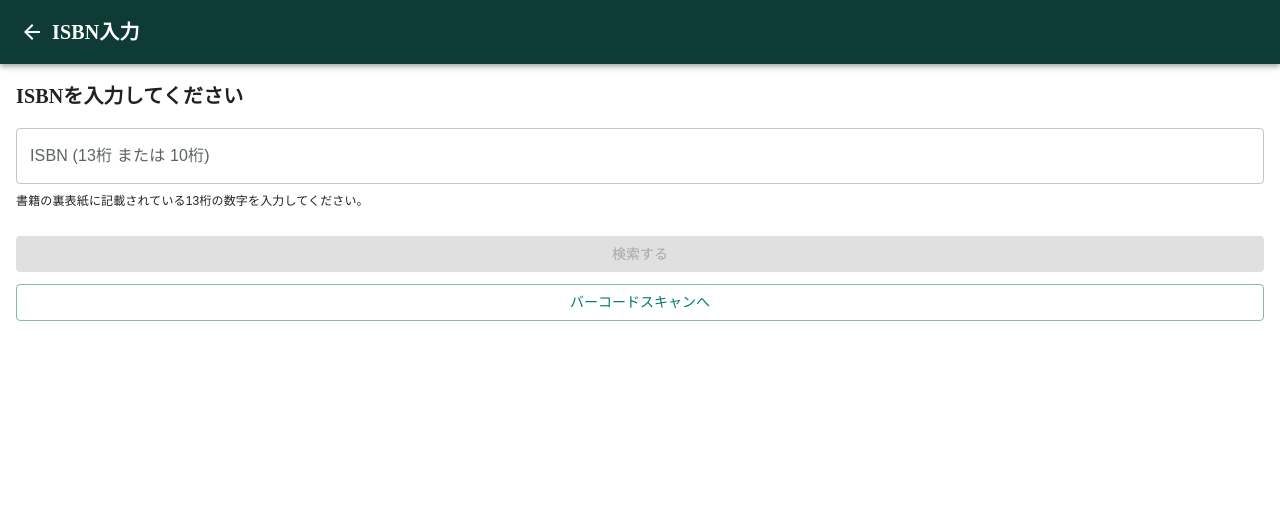
Test case: IsbnInputPage › 有効なISBN入力後に検索ボタンで/result/:isbnへ遷移する
Type "9784873117584" into the field.
click(640, 156); type("9784873117584")  # box left=16, top=128, right=1264, bottom=184
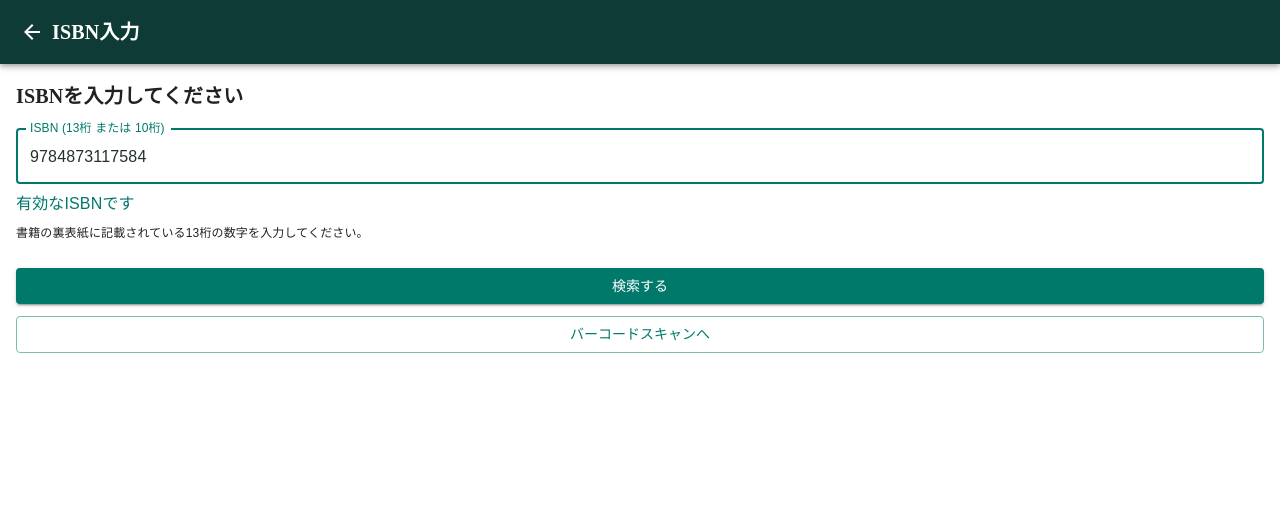
Click the button "検索する".
click(640, 286)  # box left=16, top=268, right=1264, bottom=304
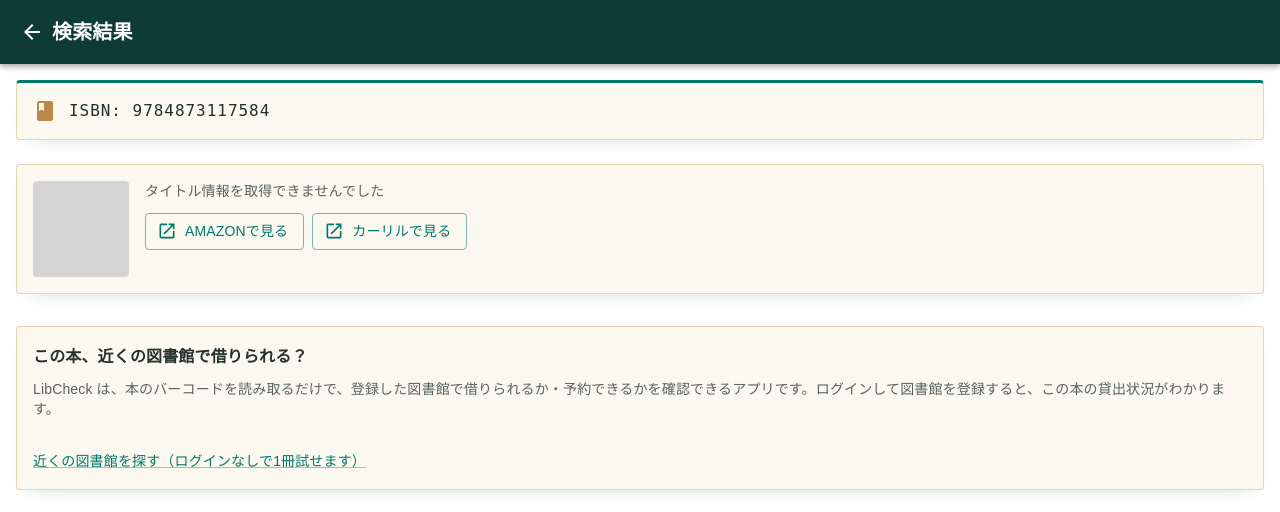
Now the text "検索結果" is shown, box left=52, top=21, right=133, bottom=43
Now the text "ISBN: 9784873117584" is shown, box left=69, top=99, right=270, bottom=123
